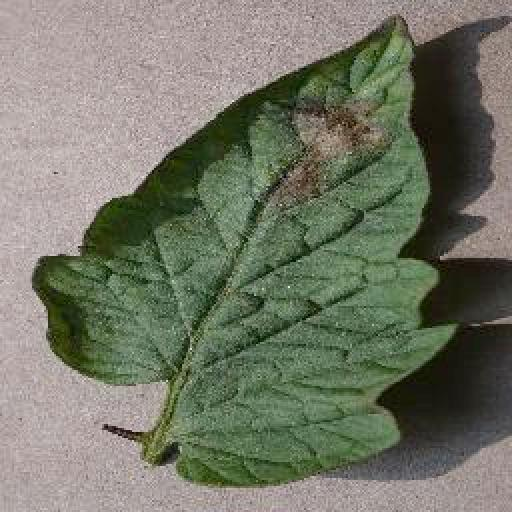disease_tomato: (32, 14, 462, 494)
